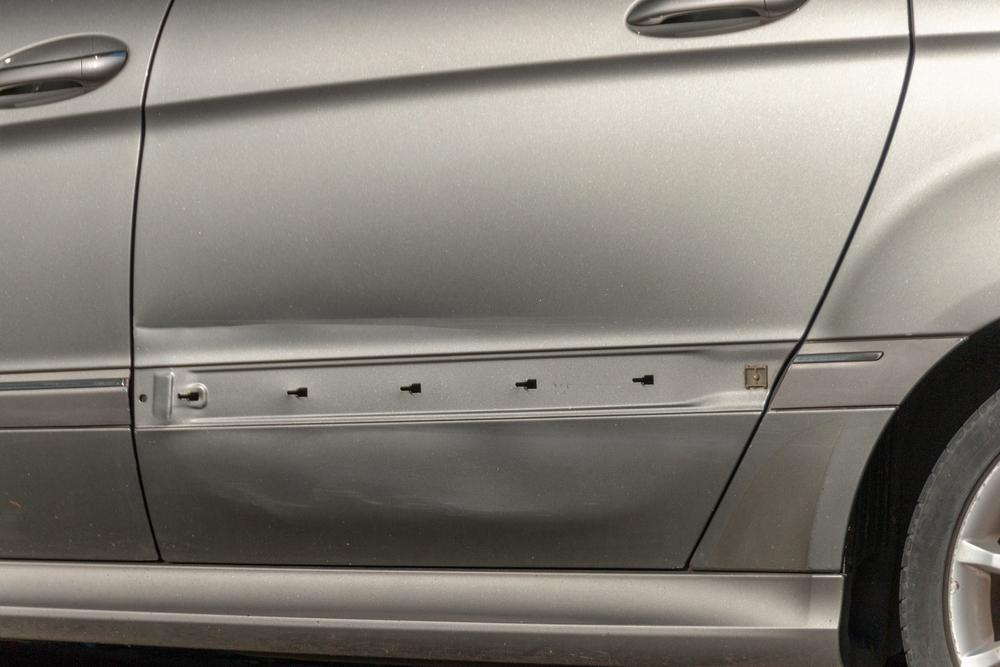dent: (134, 238, 723, 530)
